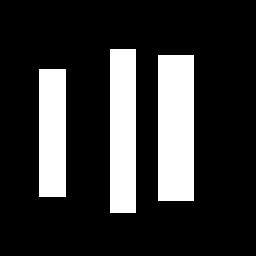person: (158, 55, 193, 200), (110, 49, 135, 212), (39, 69, 65, 196)
